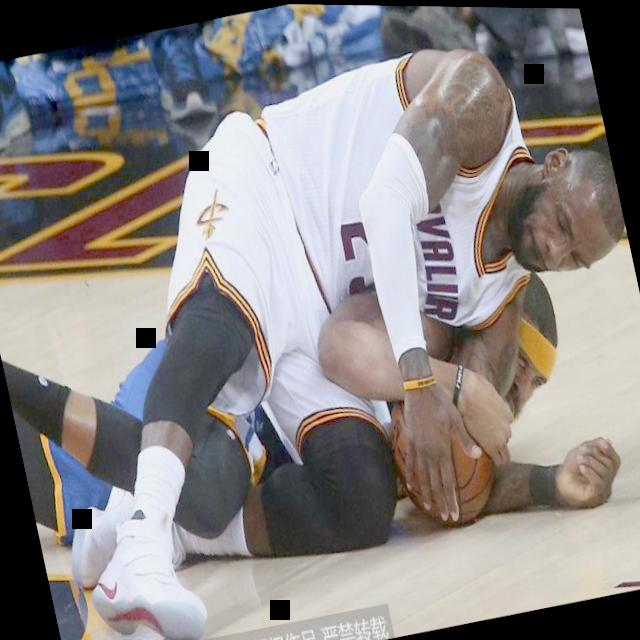Fall-Detected: (0, 2, 640, 626)
